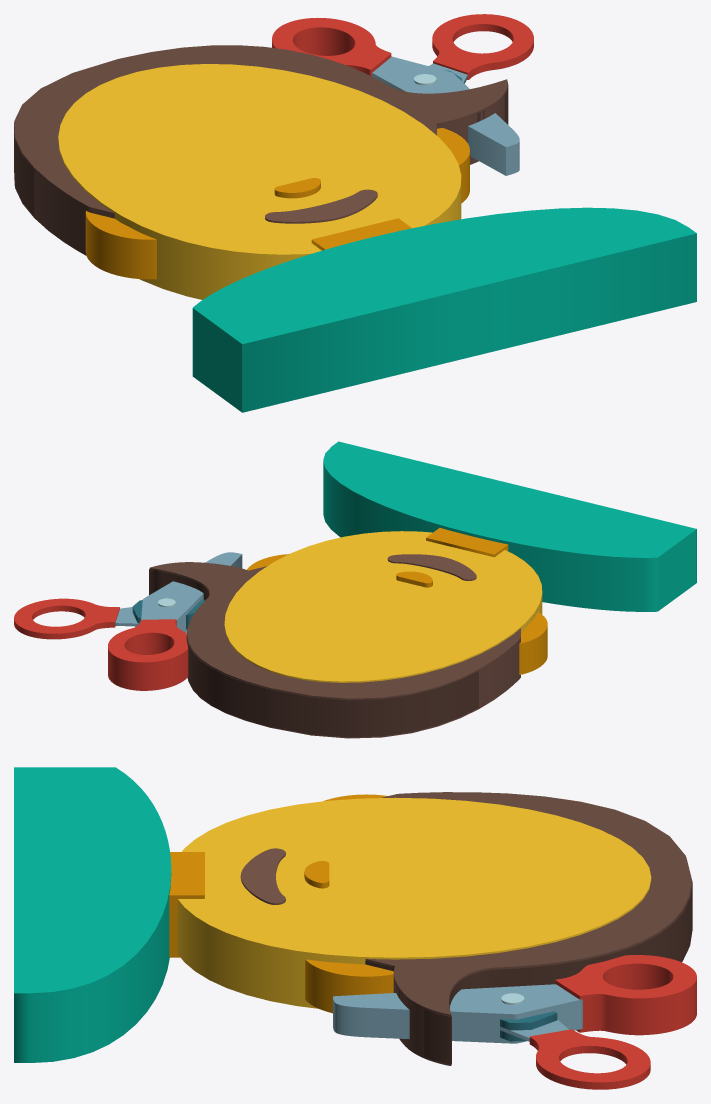
The model's file is emoji_u1f487_200d_2642.glb.
3 renders of one model, top to bottom at view 1: azimuth 30°, elevation 25°; view 2: azimuth 150°, elevation 25°; view 3: azimuth 270°, elevation 25°, orthographic. The views are drawn at different scales.
Visible parts, largest first — view 1: emoji_u1f487_200d_2642; view 2: emoji_u1f487_200d_2642; view 3: emoji_u1f487_200d_2642.
Part boxes in pixels (x1,y1,x2,y2): emoji_u1f487_200d_2642: (14, 14, 696, 412); emoji_u1f487_200d_2642: (14, 441, 696, 738); emoji_u1f487_200d_2642: (14, 767, 696, 1089).
Size of the model in its own units: 0.0331 by 0.0038 by 0.0337.
